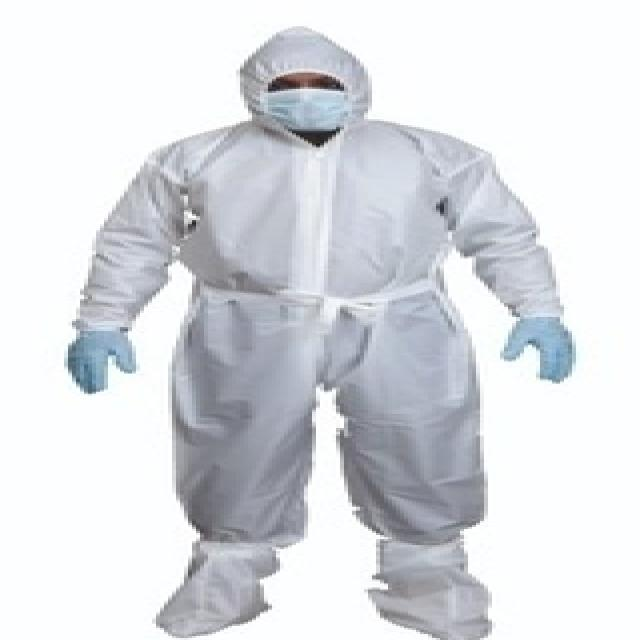Coverall: (32, 13, 336, 406)
Gloves: (281, 200, 336, 243), (32, 207, 79, 251)
Mask: (141, 55, 202, 81)
